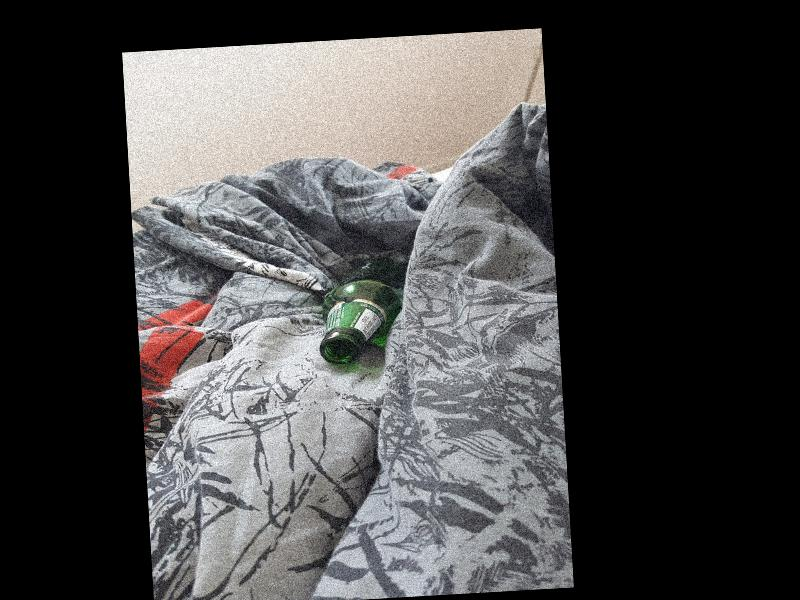Beer: (317, 258, 404, 365)
